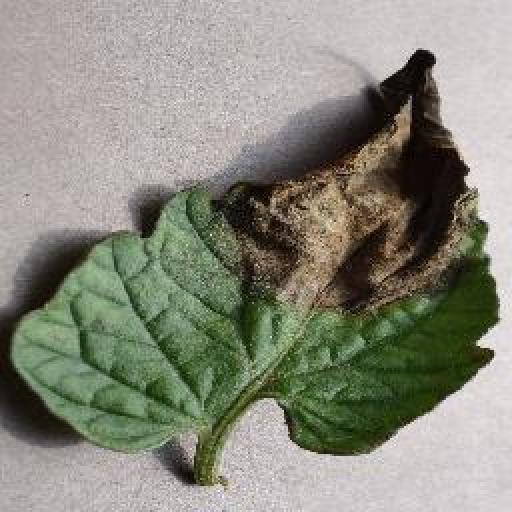Late Blight: (11, 47, 501, 456)
